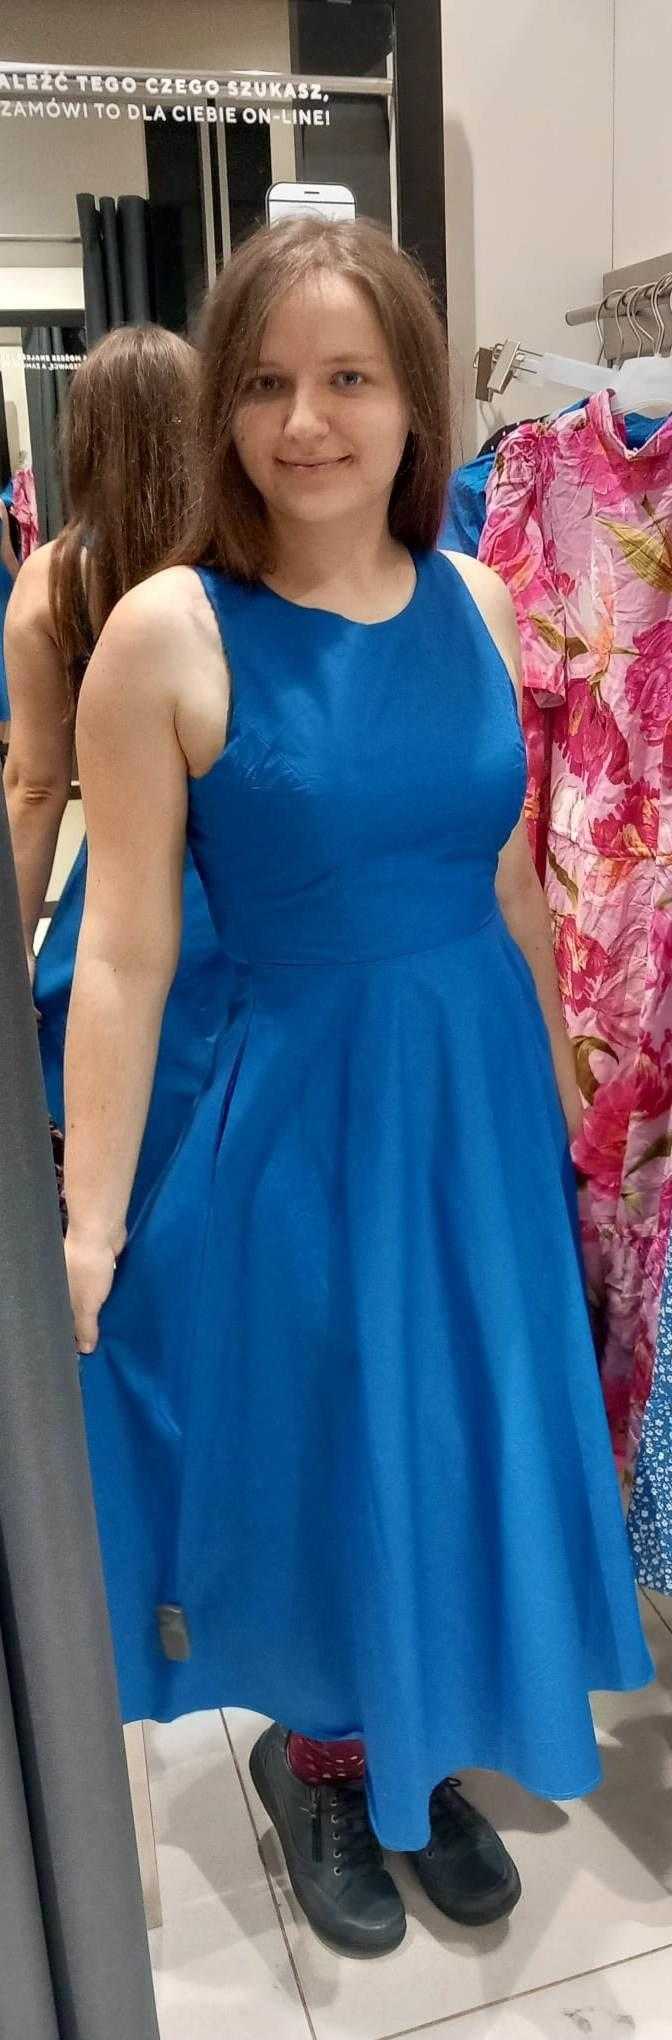dress: (82, 557, 655, 1853)
